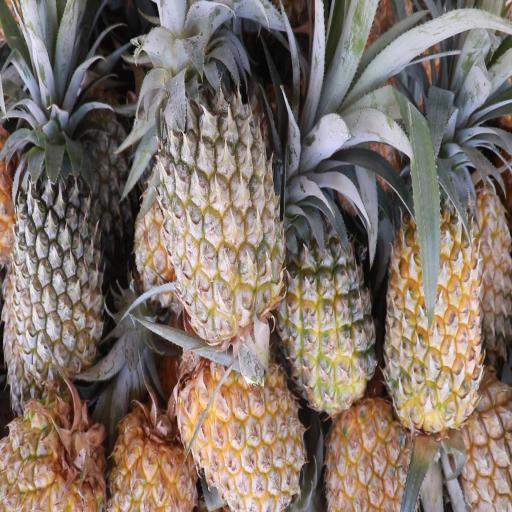------------------------------: (155, 0, 295, 348), (274, 166, 379, 419)
Pineapple - v8 v1: (381, 140, 488, 440), (174, 333, 312, 512), (1, 380, 117, 512), (324, 378, 426, 512), (106, 388, 208, 512), (445, 504, 451, 512)
